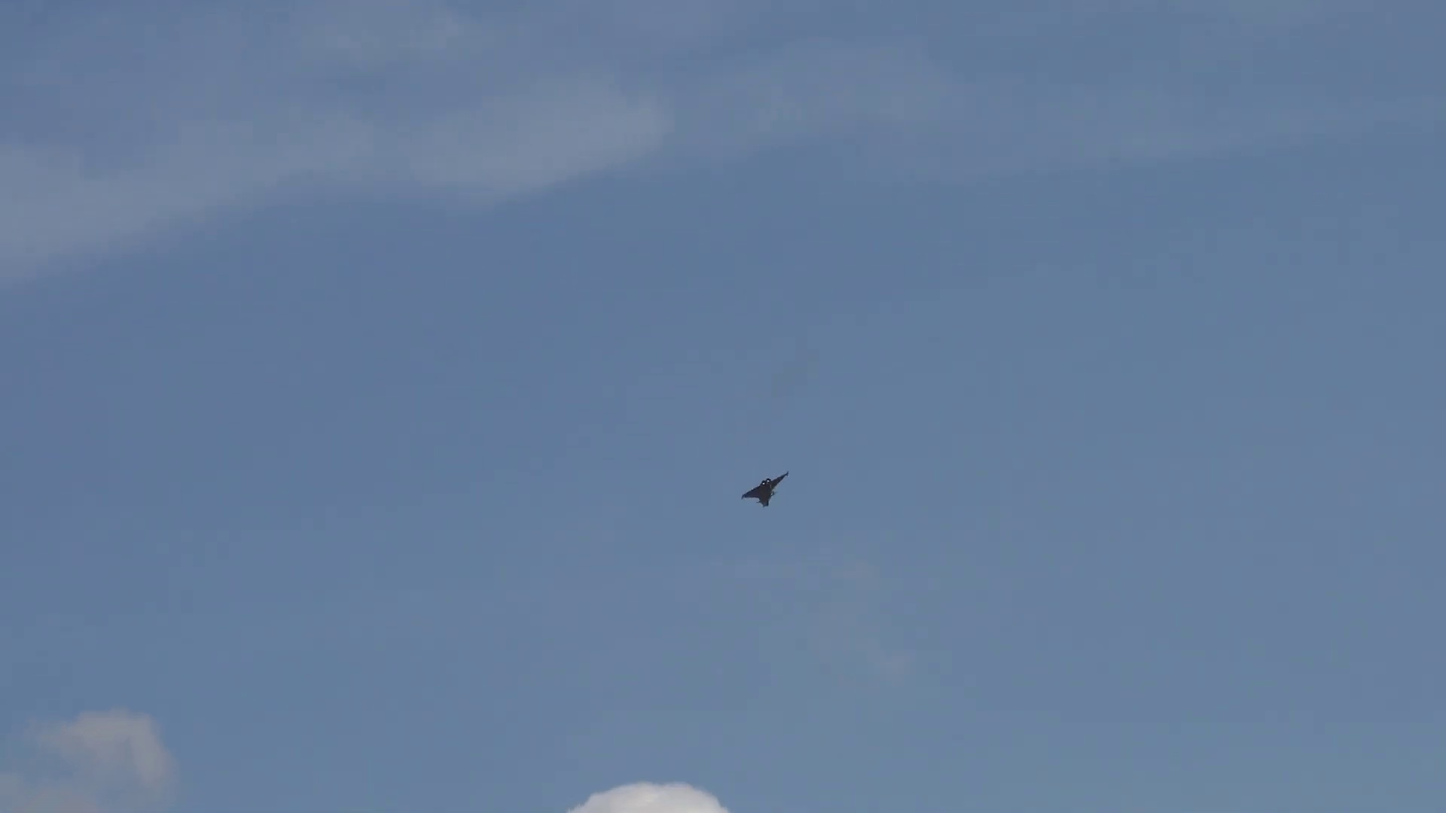Rafale: (740, 469, 791, 506)
